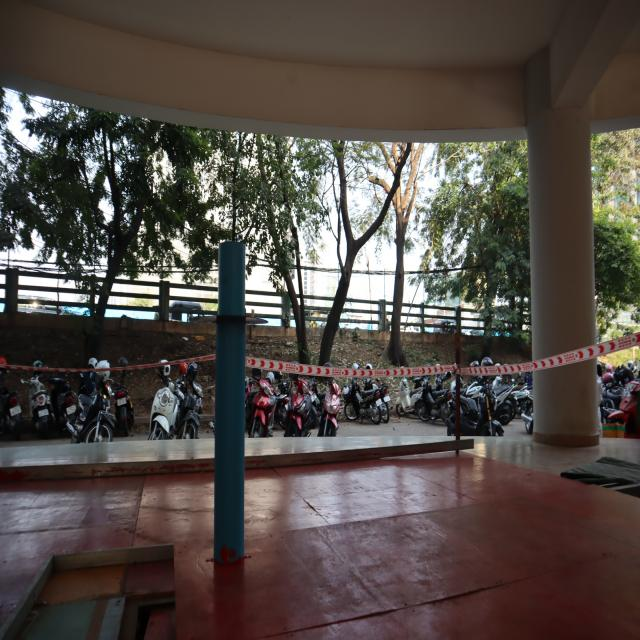pole: (201, 235, 265, 410)
